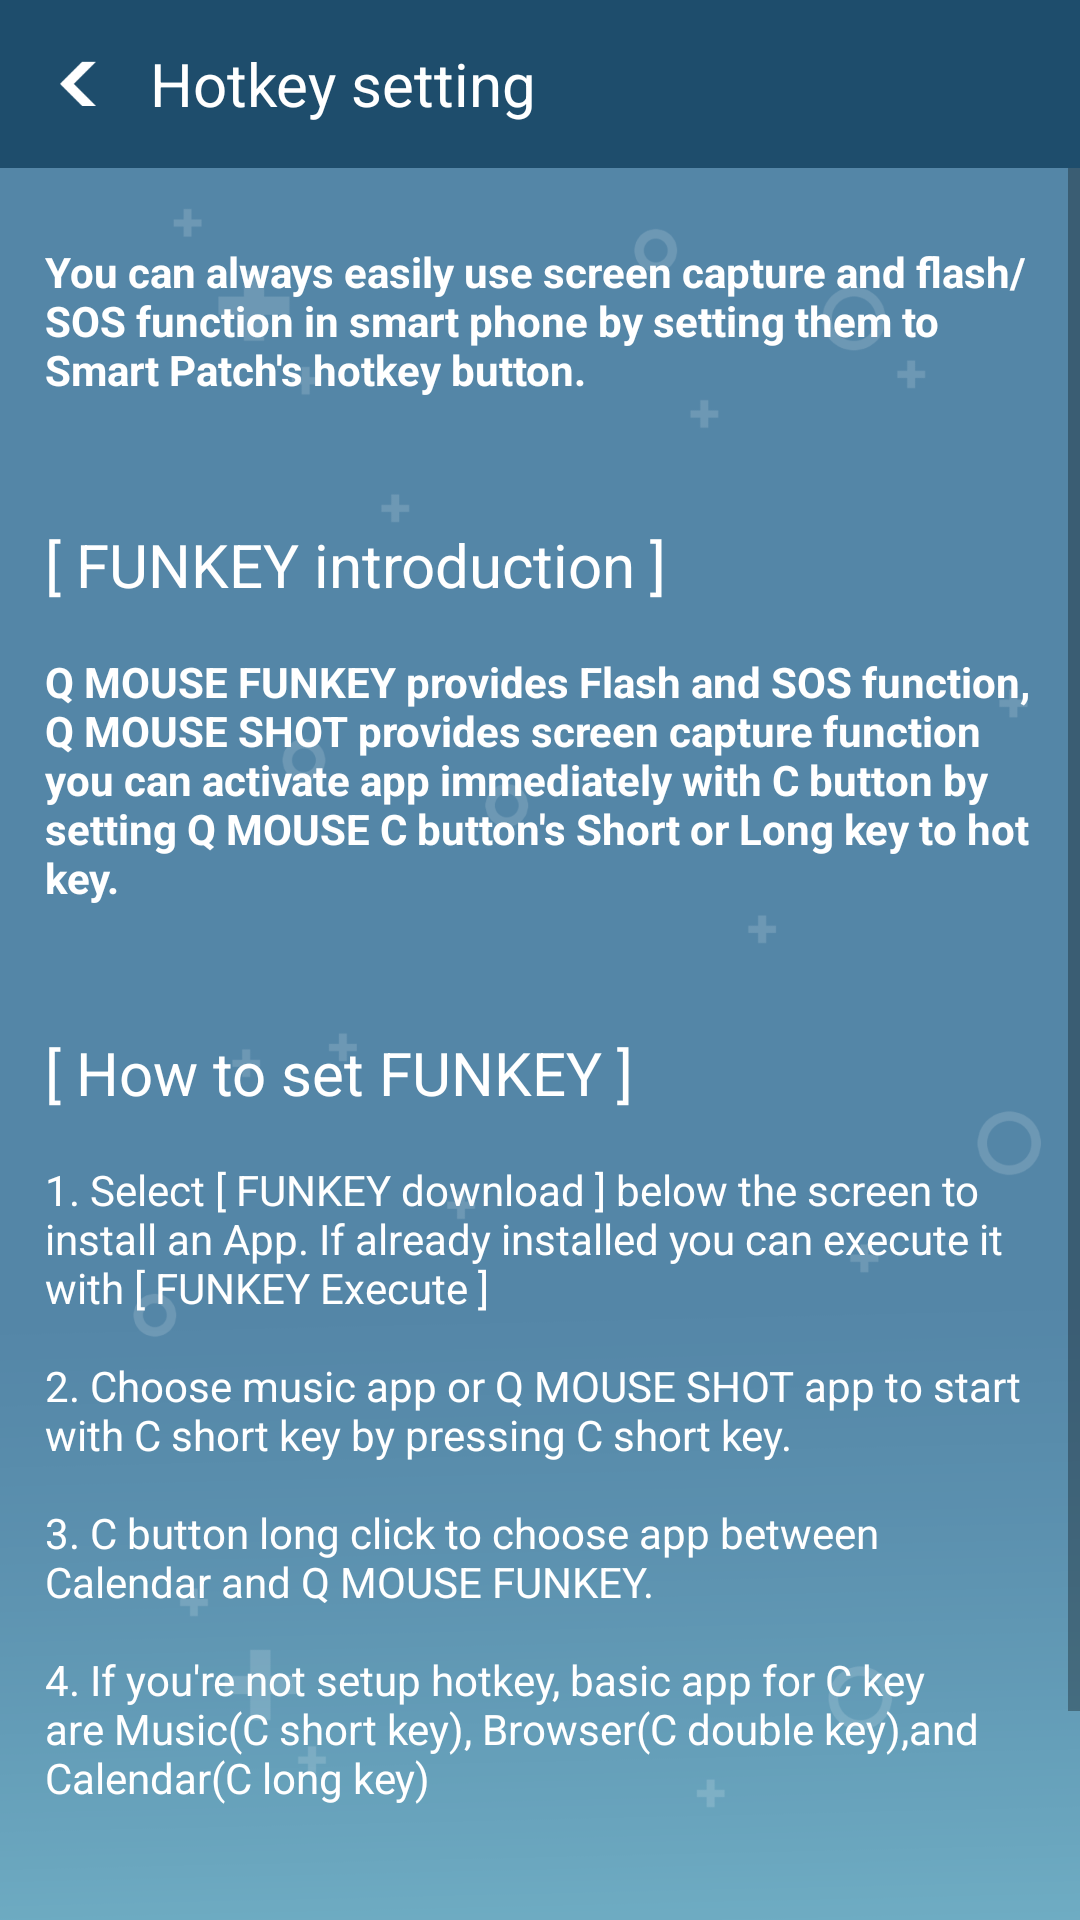

Icons on this 1080*1920 Android screen, each with its box as (x1, y1, x2, y2):
back: (60, 61, 96, 106)
